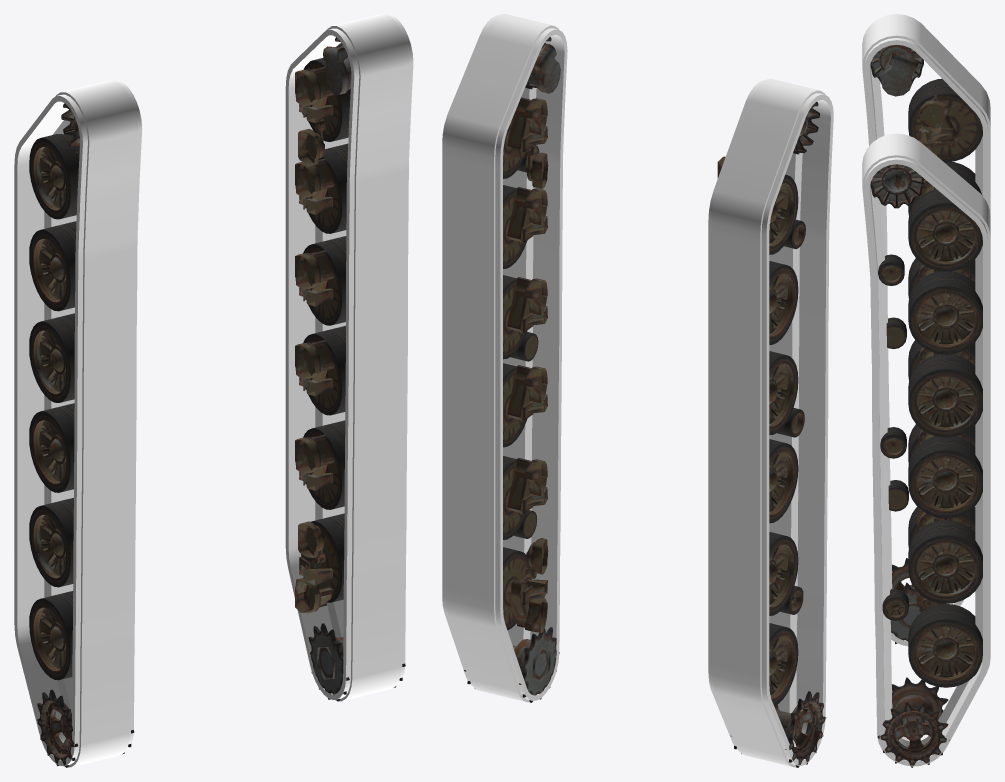
The model's file is Chassis_02.glb.
3 views of the same model, side by side, from view 1: azimuth 30°, elevation 25°; view 2: azimuth 150°, elevation 25°; view 3: azimuth 270°, elevation 25° (orthographic). The views are drawn at different scales.
Visible parts, largest first — view 1: set_0_group_0, set_1_group_0, set_3_group_0, set_2_group_0; view 2: set_0_group_0, set_1_group_0, set_3_group_0, set_2_group_0; view 3: set_3_group_0, set_1_group_0, set_2_group_0, set_0_group_0.
Boxes of the visible parts, box(x1,y1,x2,y2) form: set_0_group_0: box(14, 80, 142, 767); set_1_group_0: box(285, 14, 413, 701); set_3_group_0: box(295, 37, 405, 701); set_2_group_0: box(29, 103, 134, 767); set_0_group_0: box(708, 79, 833, 767); set_1_group_0: box(442, 14, 567, 702); set_3_group_0: box(464, 37, 560, 702); set_2_group_0: box(717, 102, 826, 767); set_3_group_0: box(870, 164, 982, 767); set_1_group_0: box(862, 133, 990, 766); set_2_group_0: box(870, 45, 982, 643); set_0_group_0: box(862, 14, 990, 646).
Size of the model in its own units: 3.24 by 6.34 by 1.21.
Materials: 4 (2 with a texture image).
